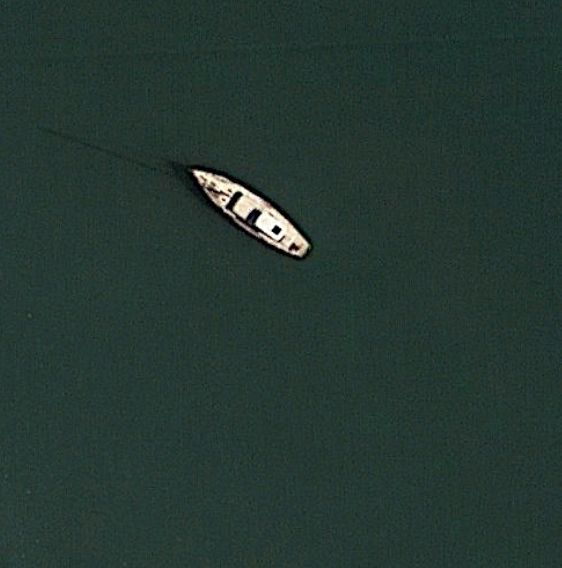boat: (183, 163, 316, 263)
